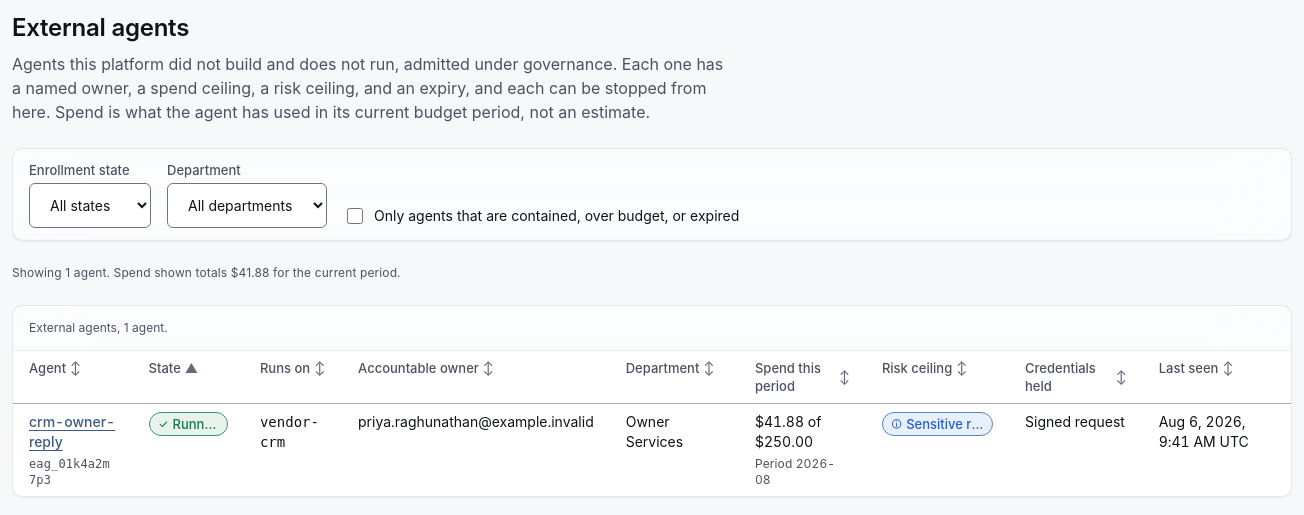
Test: ExternalAgents › distinguishes an empty roster from an over-tight filter
Select "Revoked" in the dropdown labelled "Enrollment state" at (90, 206), box [29,183,151,228]
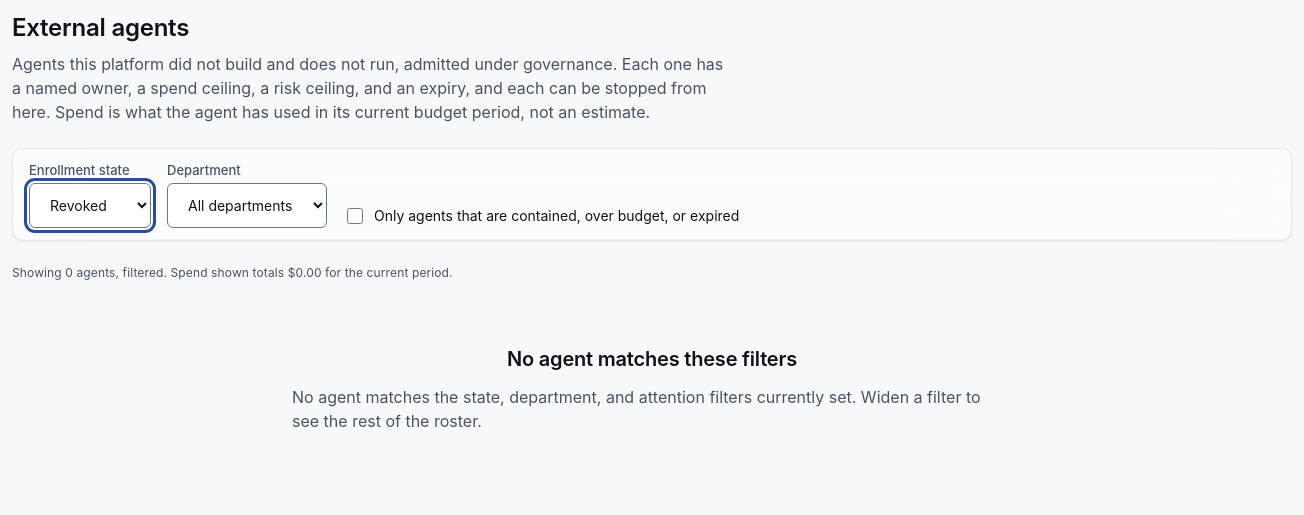
Check: the heading "No agent matches these filters" is shown, box [507,345,797,373]
